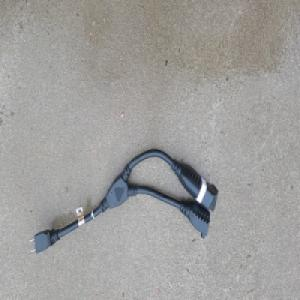Wire: (28, 147, 218, 255)
